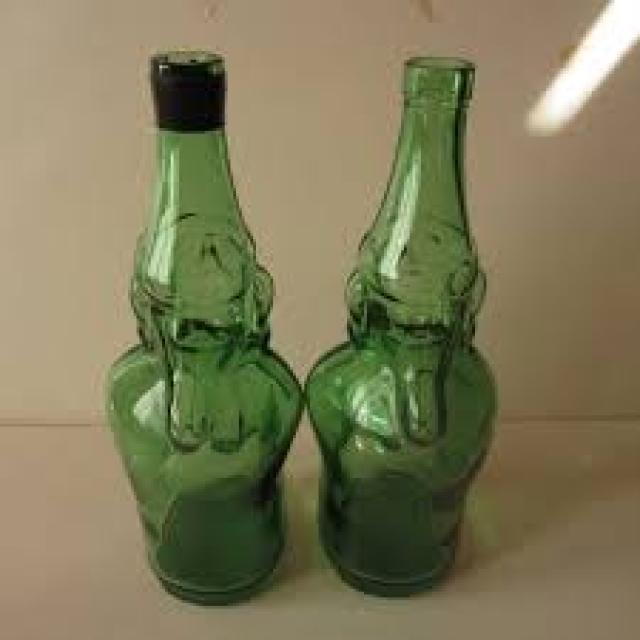glass: (301, 54, 495, 592), (105, 122, 302, 603)
plastic: (148, 48, 222, 128)
